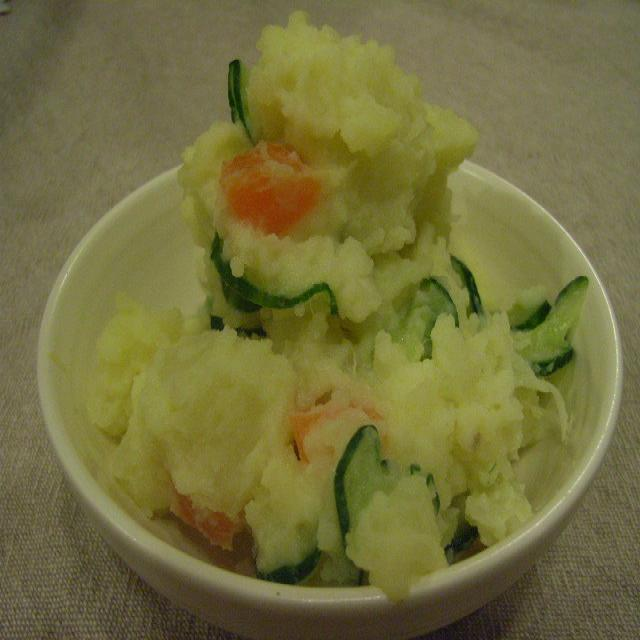蔬菜料理: (40, 12, 624, 640)
